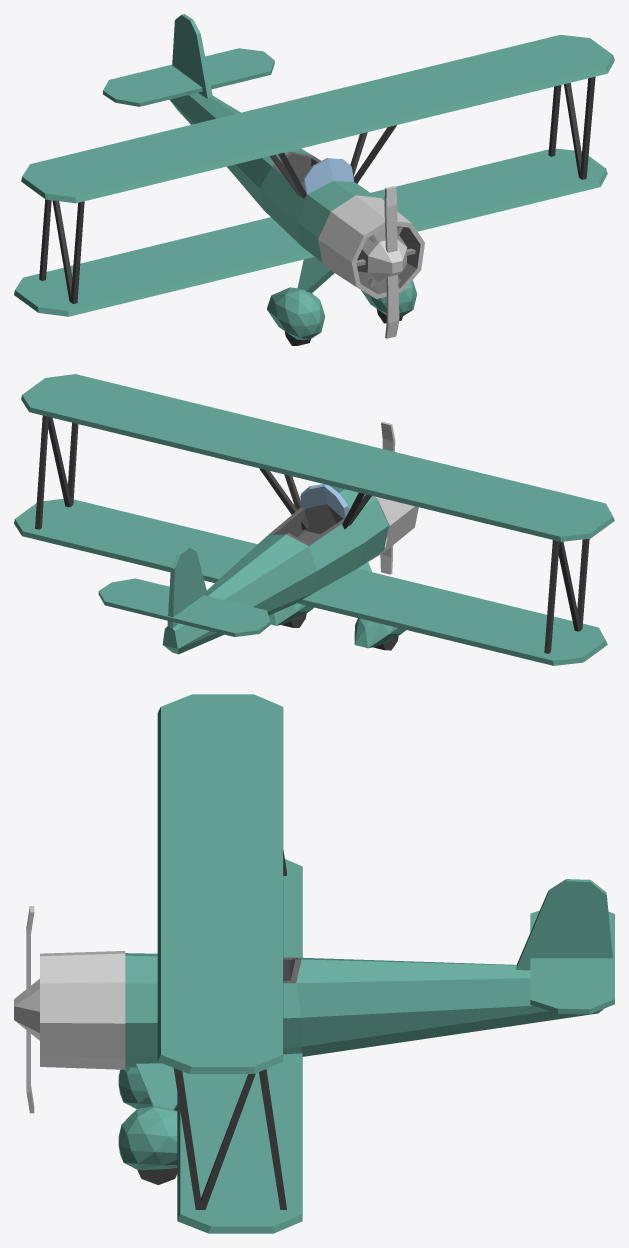
File: transport_air_008.fbx
The picture shows the model from 3 angles, top to bottom: view 1: azimuth 30°, elevation 25°; view 2: azimuth 150°, elevation 25°; view 3: azimuth 270°, elevation 25°; orthographic projection. The views are drawn at different scales.
Parts seen in each view (by area): view 1: transport_air_008; view 2: transport_air_008; view 3: transport_air_008.
Part boxes in pixels (left/top/right/bottom): transport_air_008: left=14, top=14, right=614, bottom=345; transport_air_008: left=14, top=374, right=614, bottom=665; transport_air_008: left=14, top=694, right=614, bottom=1233.
Bounding box in the file's own units: 1004 × 340 × 683.
